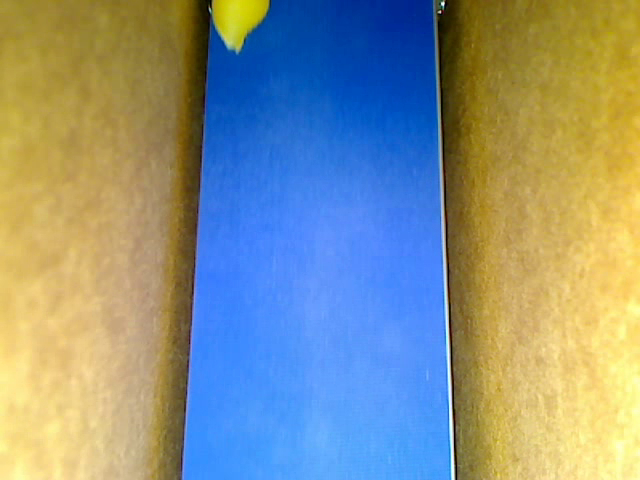shell: (209, 1, 269, 56)
